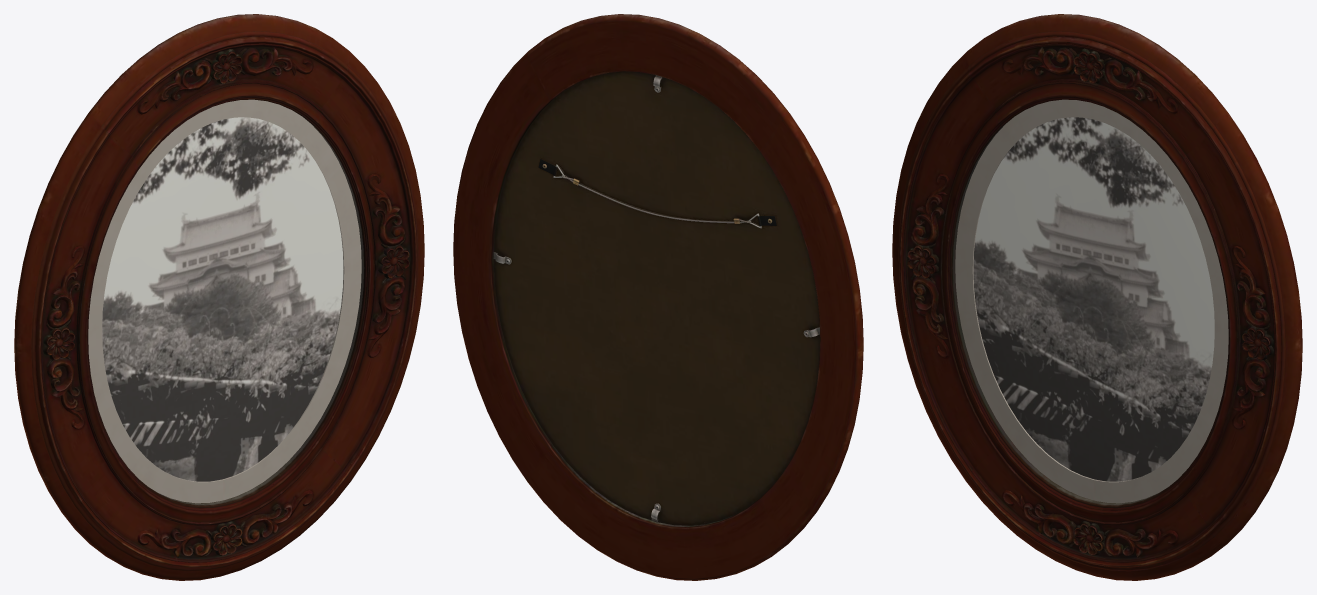
The model's file is ph-oval-frame.glb.
The picture shows the model from 3 angles, left to right: view 1: azimuth 30°, elevation 25°; view 2: azimuth 150°, elevation 25°; view 3: azimuth 330°, elevation 25°; orthographic projection.
Parts seen in each view (by area): view 1: hanging_picture_frame_03; view 2: hanging_picture_frame_03; view 3: hanging_picture_frame_03.
Part boxes in pixels (bbox=[...]): hanging_picture_frame_03: bbox=[14, 14, 424, 580]; hanging_picture_frame_03: bbox=[453, 14, 863, 580]; hanging_picture_frame_03: bbox=[892, 14, 1302, 580].
Size of the model in its own units: 0.385 by 0.5024 by 0.0318.
Materials: 3 (2 with a texture image).
